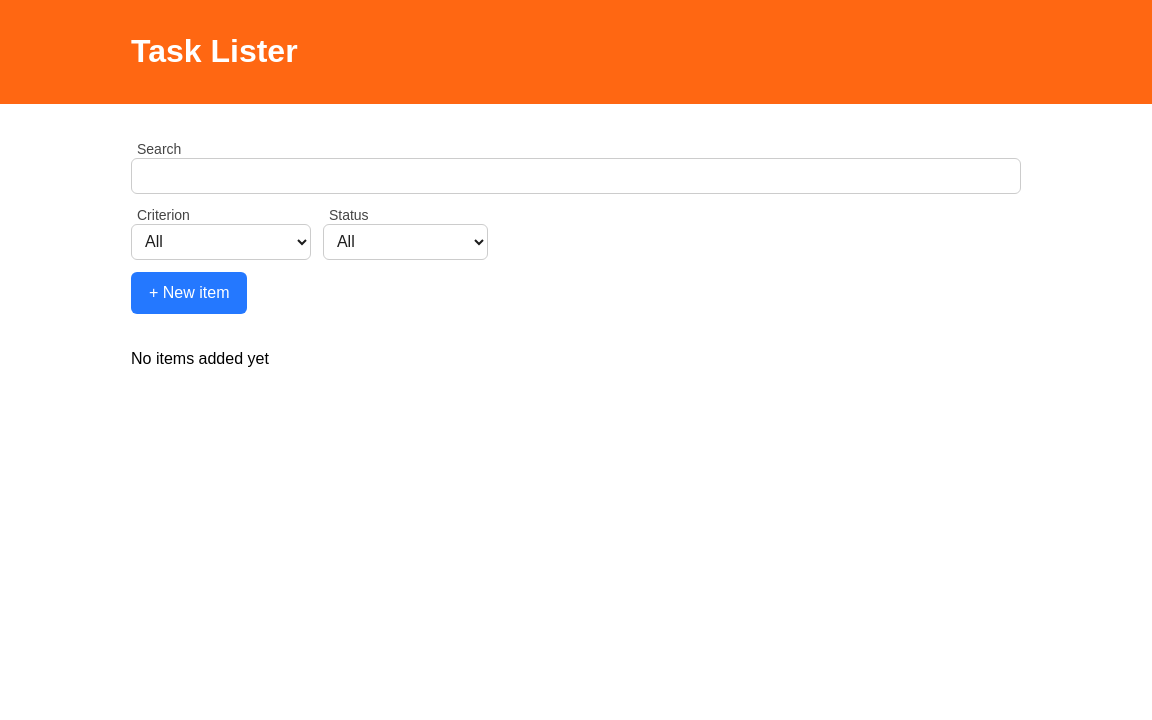
Scenario: App › Tests the full todo item creation flow
This screenshot has width=1152, height=720.
Click the button "+ New item": point(189, 293) [131, 272, 248, 314]
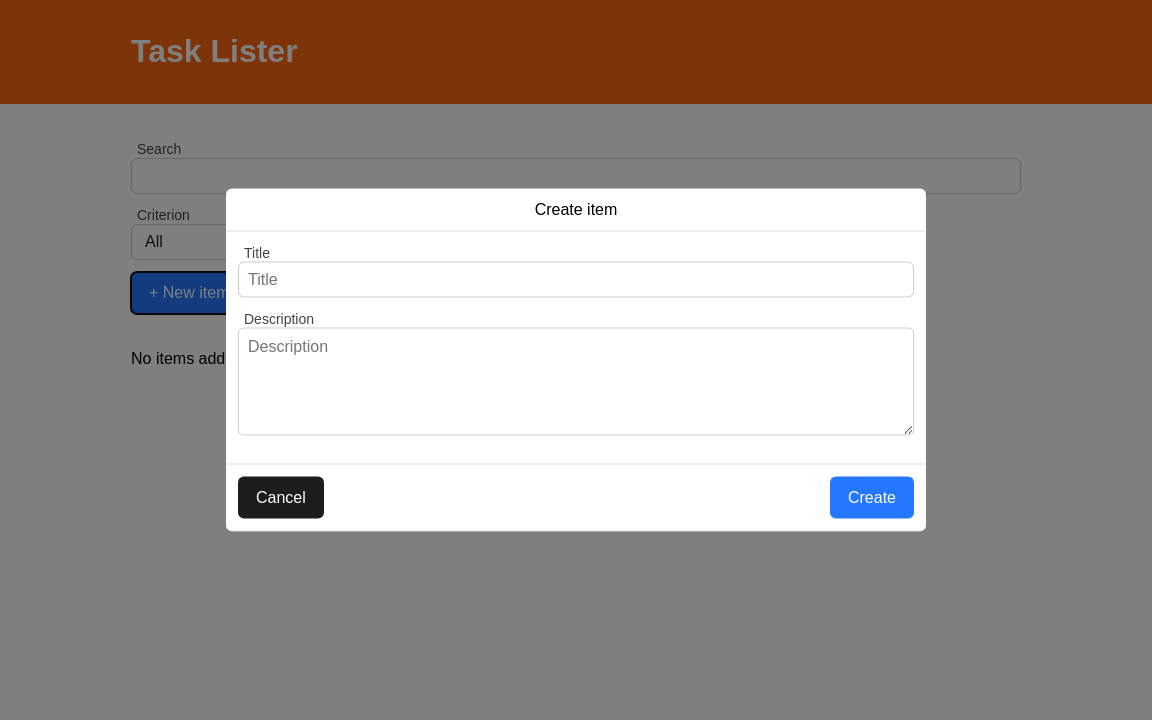
In the field labelled "Title": point(576, 280) [238, 262, 914, 298], type "Fix bug #540"
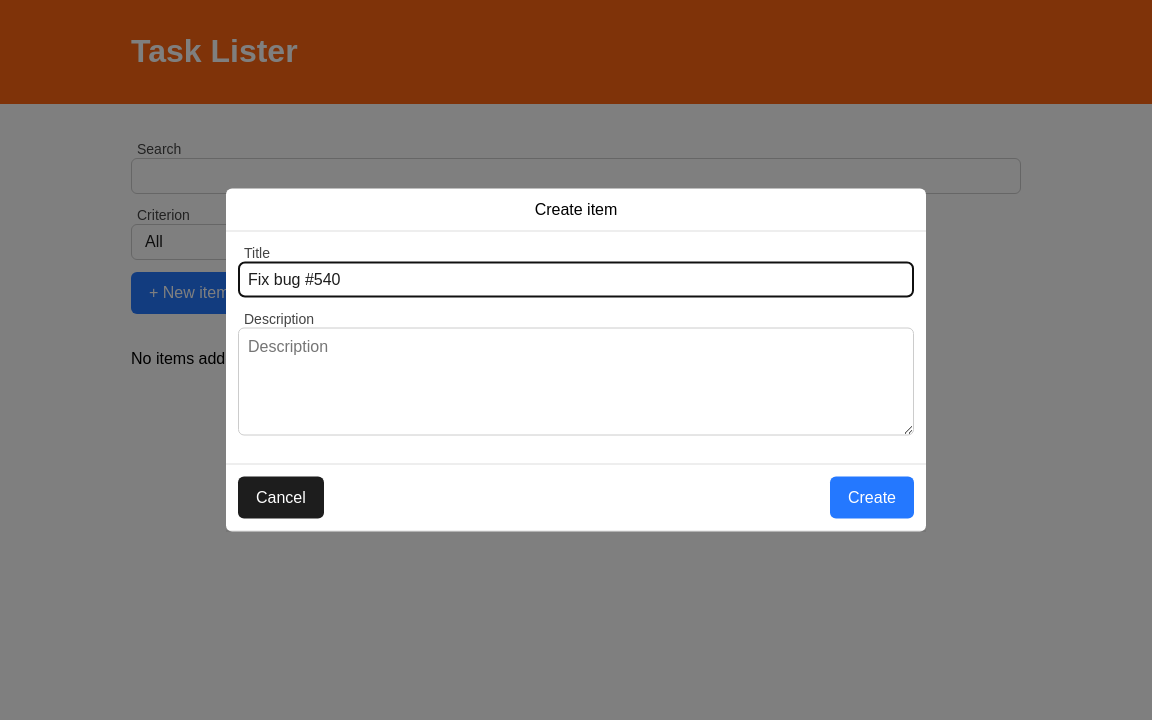
In the text box labelled "Description": point(576, 382) [238, 328, 914, 436], type "Fix the bug in the contact creation page"
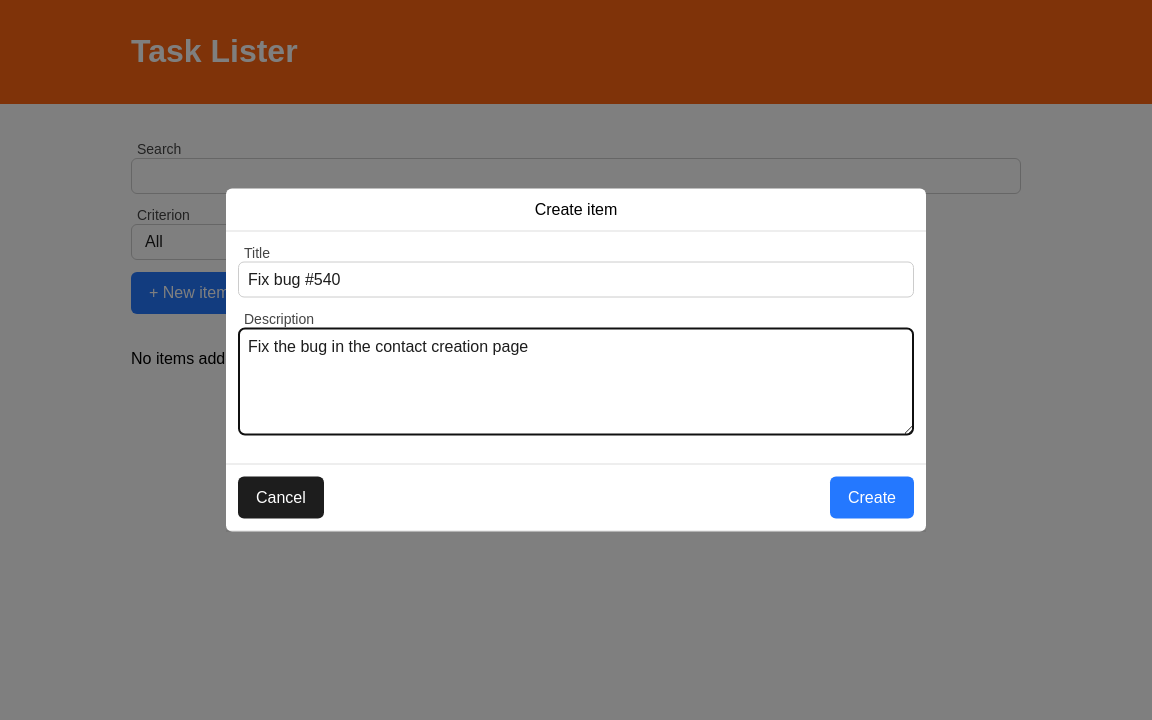
Click the button "Create": point(872, 498) [830, 476, 914, 518]
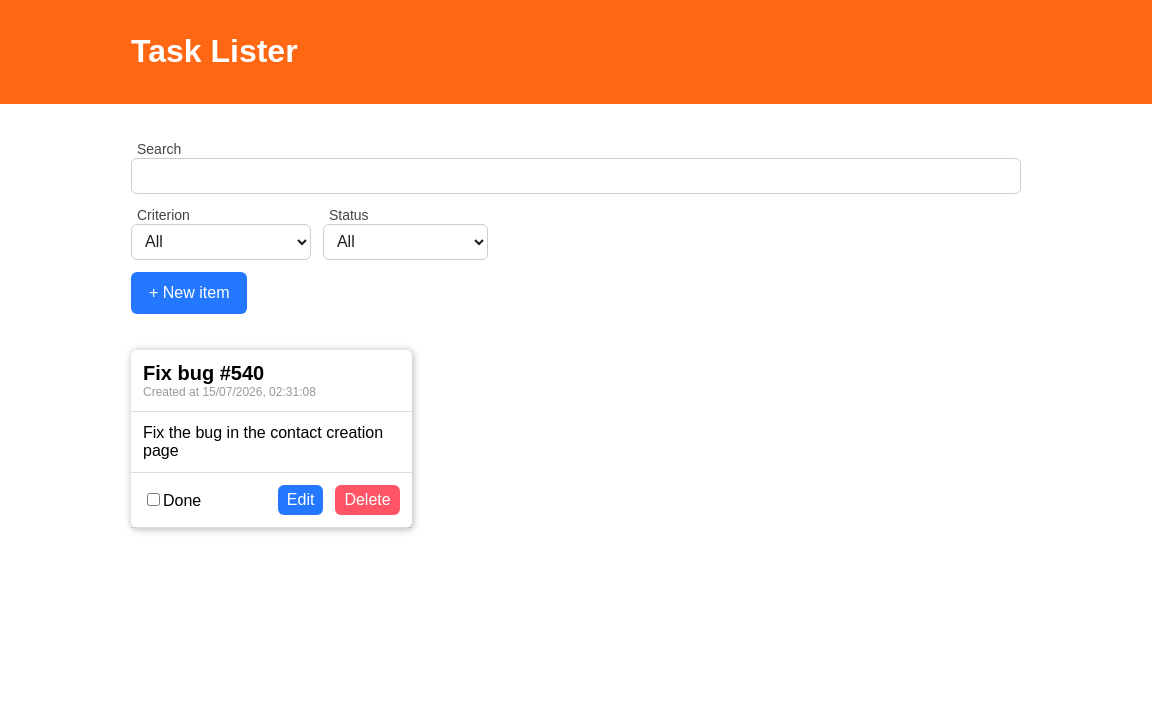
Check: the text "Fix bug #540" is shown, box [143, 362, 264, 384]
Check: the text "Create item" is gone
